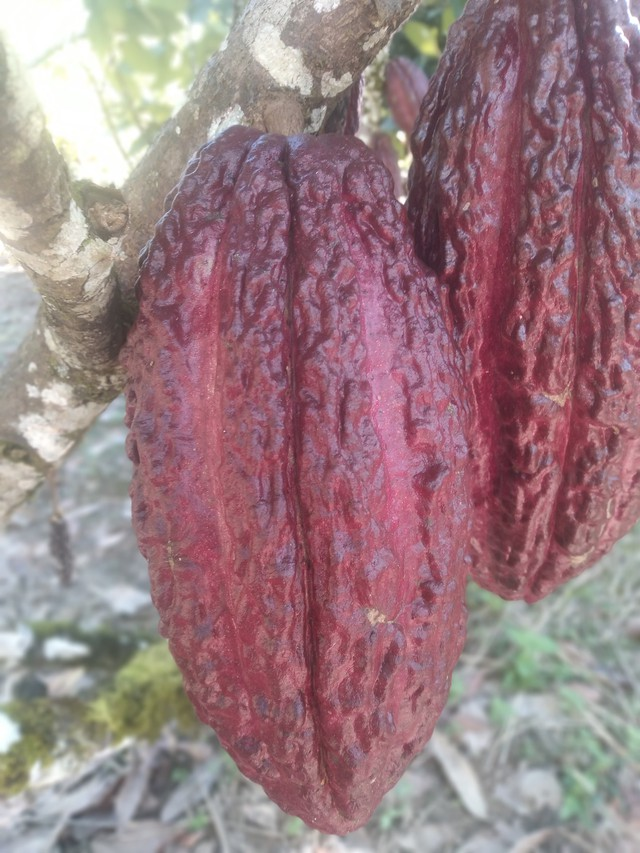Health: (101, 107, 485, 846)
